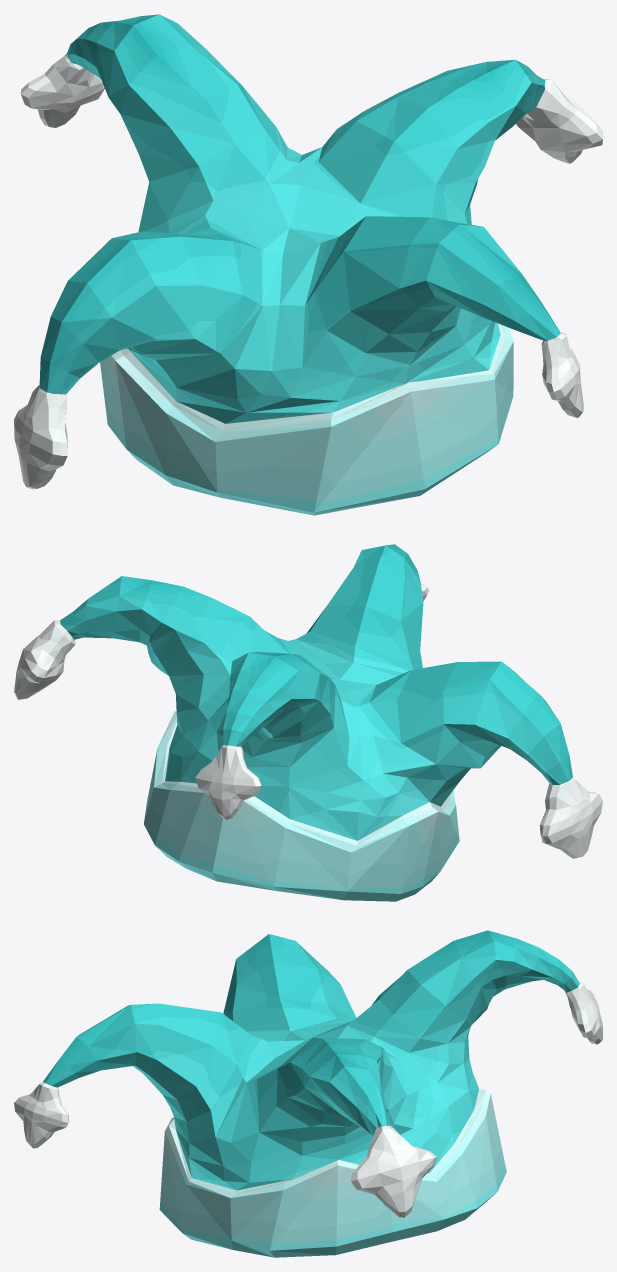
Rendered from CharSkyKid_Horn_BirthdayHat_04.glb.
The picture shows the model from 3 angles, top to bottom: view 1: azimuth 30°, elevation 25°; view 2: azimuth 150°, elevation 25°; view 3: azimuth 270°, elevation 25°; orthographic projection. The views are drawn at different scales.
Visible parts, largest first — view 1: CharSkyKid_Horn_BirthdayHat_04; view 2: CharSkyKid_Horn_BirthdayHat_04; view 3: CharSkyKid_Horn_BirthdayHat_04.
Part boxes in pixels (bbox=[...]): CharSkyKid_Horn_BirthdayHat_04: bbox=[14, 14, 602, 515]; CharSkyKid_Horn_BirthdayHat_04: bbox=[14, 544, 602, 901]; CharSkyKid_Horn_BirthdayHat_04: bbox=[14, 930, 602, 1257].
Bounding box in the file's own units: 4.03 × 2.13 × 4.18.
1 material, 1 textured.
